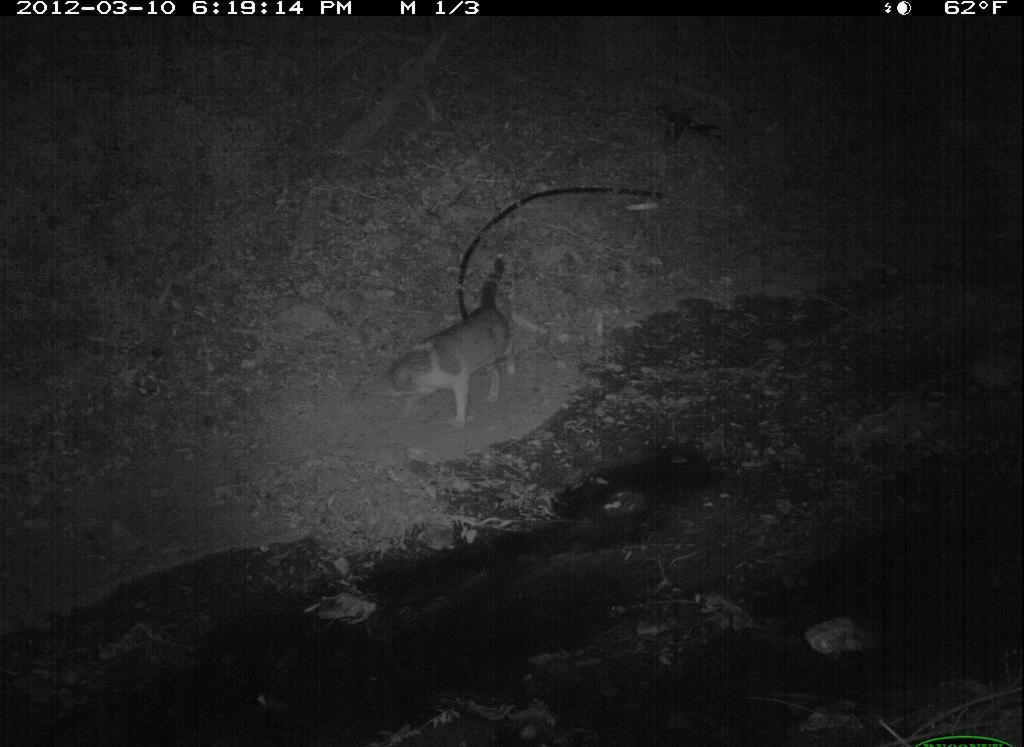cat: (385, 250, 534, 442)
